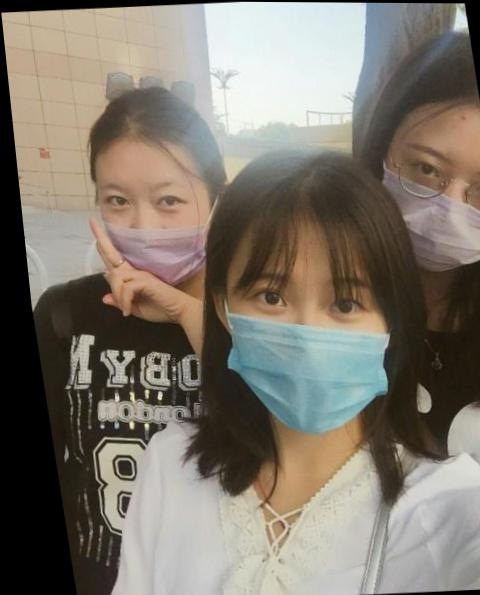OK: (211, 254, 403, 433), (373, 130, 480, 277)
WRONG: (86, 163, 219, 288)
